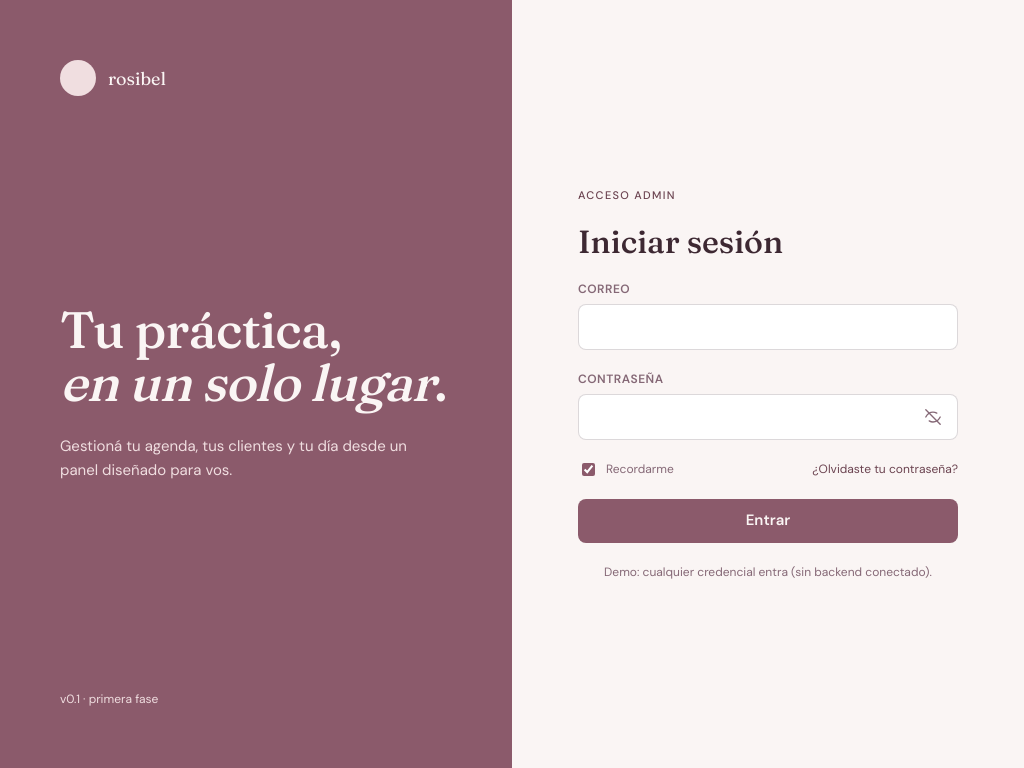
Test case: AdminLogin (mock auth) › disables the button while submitting
Type "demo@example.com" into the field labelled "Correo" at (768, 327), box [578,304,958,350]
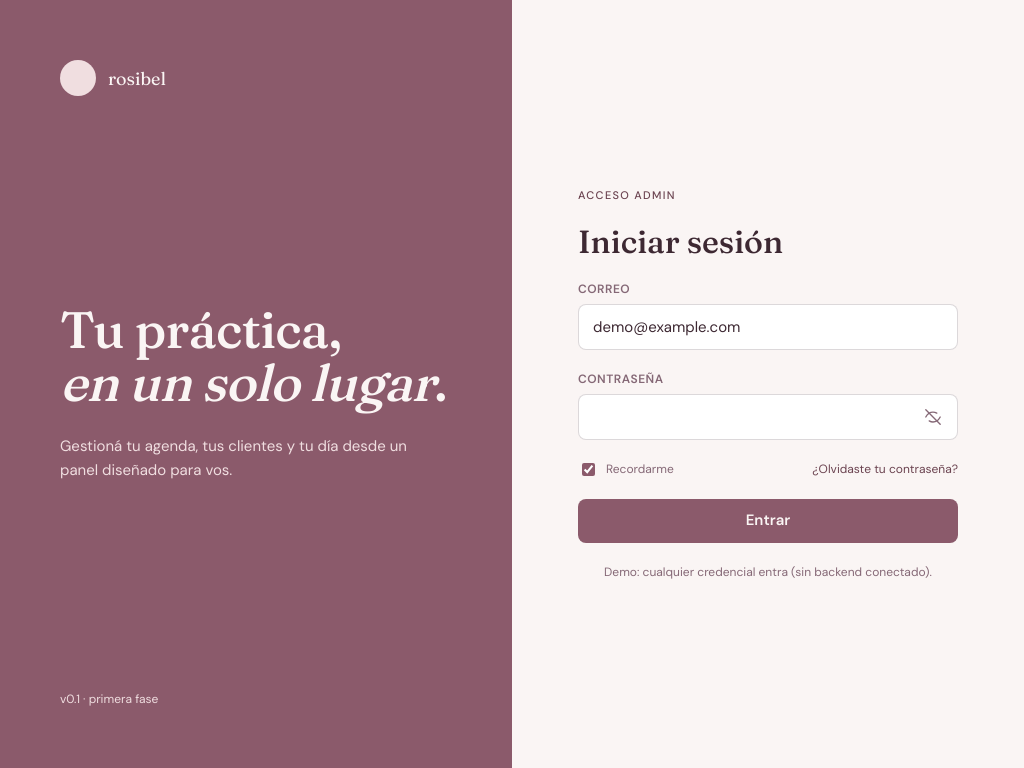
Type "demo1234" into the password field labelled "Contraseña" at (768, 417), box [578,394,958,440]
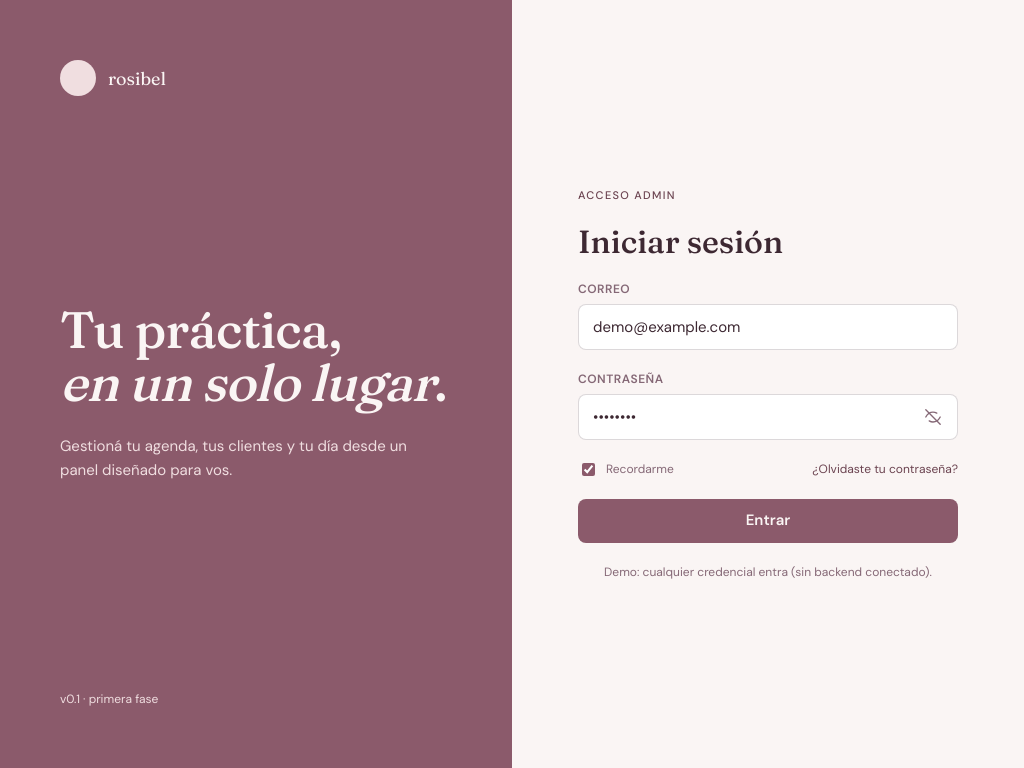
Click the button "Entrar" at (768, 521), box [578,499,958,543]
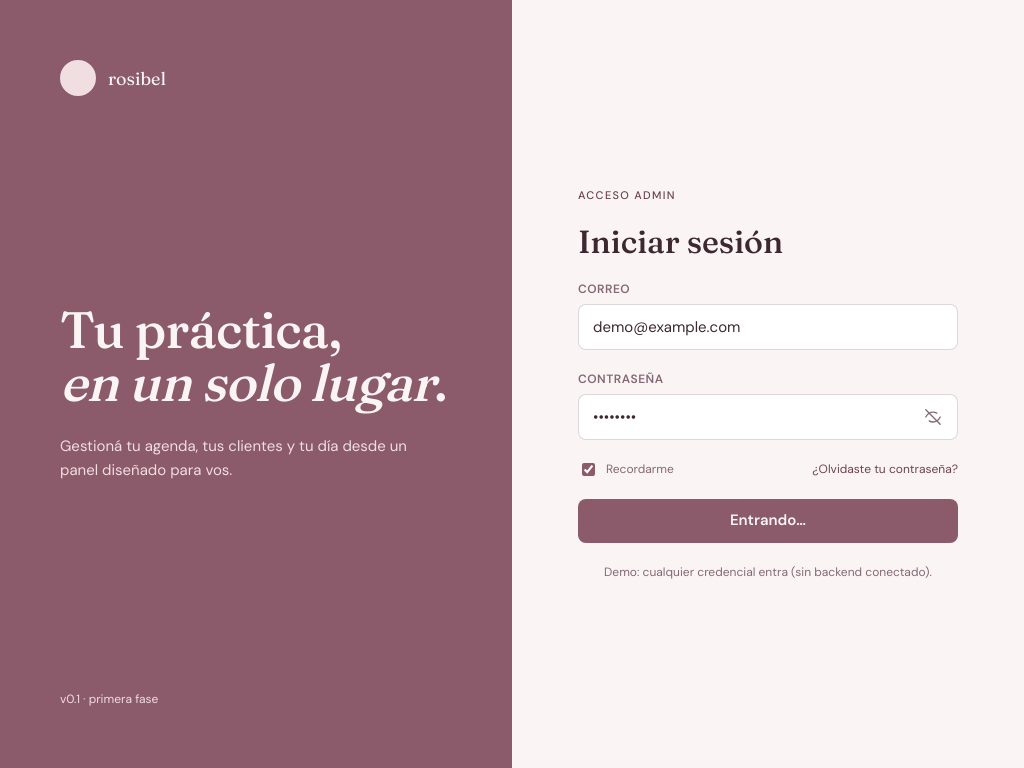
Expected: the button named "entrar" is disabled, [578,499,958,543]
